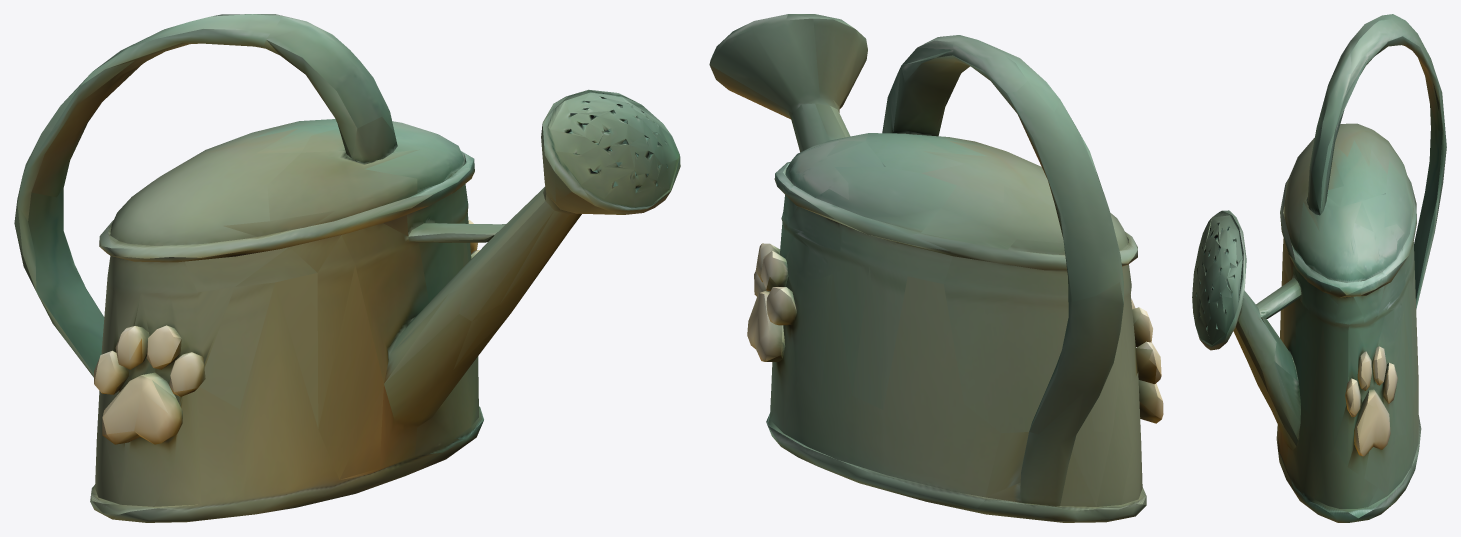
File: watering_can.glb
3 renders of one model, left to right at view 1: azimuth 30°, elevation 25°; view 2: azimuth 150°, elevation 25°; view 3: azimuth 270°, elevation 25°, orthographic. The views are drawn at different scales.
Parts seen in each view (by area): view 1: tripo_node_2e43590c-39d0-4955-851a-4f9f7a1dc0f8; view 2: tripo_node_2e43590c-39d0-4955-851a-4f9f7a1dc0f8; view 3: tripo_node_2e43590c-39d0-4955-851a-4f9f7a1dc0f8.
Part boxes in pixels (box(x1,y1,x2,y2)): tripo_node_2e43590c-39d0-4955-851a-4f9f7a1dc0f8: box(14, 14, 680, 522); tripo_node_2e43590c-39d0-4955-851a-4f9f7a1dc0f8: box(709, 14, 1163, 522); tripo_node_2e43590c-39d0-4955-851a-4f9f7a1dc0f8: box(1192, 14, 1446, 522).
Bounding box in the file's own units: 0.6801 × 0.5499 × 0.3193.
1 material, 1 textured.
